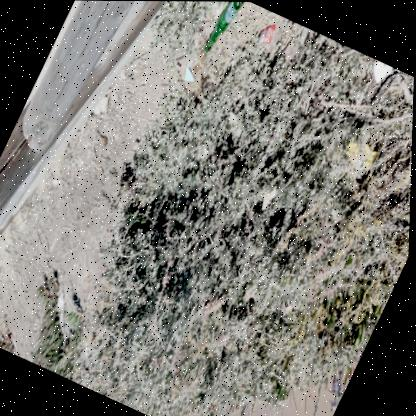Plastic: (204, 1, 243, 51), (344, 137, 377, 168), (229, 105, 242, 136)
Waste: (373, 57, 393, 81), (257, 22, 275, 42), (263, 185, 278, 207), (91, 94, 107, 113), (186, 50, 197, 68), (184, 65, 194, 80), (58, 289, 66, 307), (405, 165, 412, 182), (144, 74, 147, 84)
